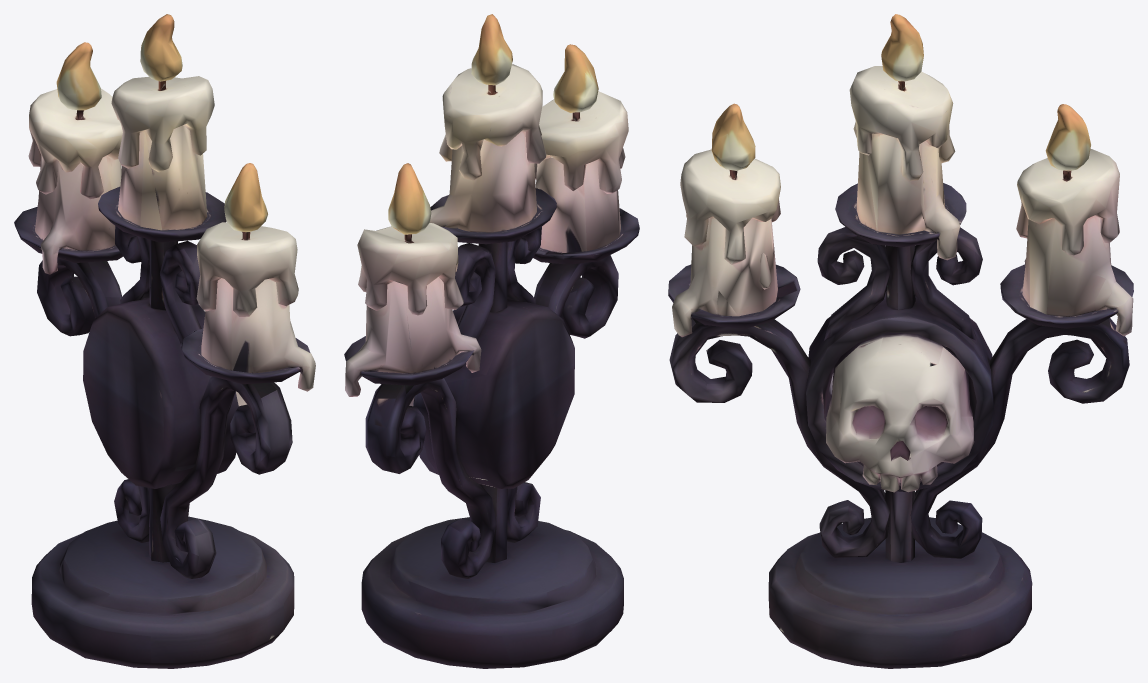
The model's file is H5_SkullCandelabra_LOD1.fbx.
3 views of the same model, side by side, from view 1: azimuth 30°, elevation 25°; view 2: azimuth 150°, elevation 25°; view 3: azimuth 270°, elevation 25° (orthographic).
Parts seen in each view (by area): view 1: PART_Body.001, PART_Flame_17.001, PART_Flame_16.001, PART_Flame_18.001; view 2: PART_Body.001, PART_Flame_16.001, PART_Flame_17.001, PART_Flame_18.001; view 3: PART_Body.001, PART_Flame_17.001, PART_Flame_16.001, PART_Flame_18.001.
Part boxes in pixels (left/top/right/bottom): PART_Body.001: left=14, top=76, right=315, bottom=668; PART_Flame_17.001: left=56, top=42, right=101, bottom=110; PART_Flame_16.001: left=224, top=163, right=267, bottom=231; PART_Flame_18.001: left=140, top=14, right=182, bottom=81; PART_Body.001: left=344, top=64, right=639, bottom=668; PART_Flame_16.001: left=553, top=44, right=598, bottom=112; PART_Flame_17.001: left=388, top=163, right=431, bottom=234; PART_Flame_18.001: left=471, top=14, right=512, bottom=85; PART_Body.001: left=668, top=66, right=1133, bottom=668; PART_Flame_17.001: left=1045, top=104, right=1090, bottom=171; PART_Flame_16.001: left=711, top=103, right=755, bottom=170; PART_Flame_18.001: left=881, top=14, right=923, bottom=81.
Size of the model in its own units: 0.15 by 0.3802 by 0.266.
4 materials, 4 textured.
